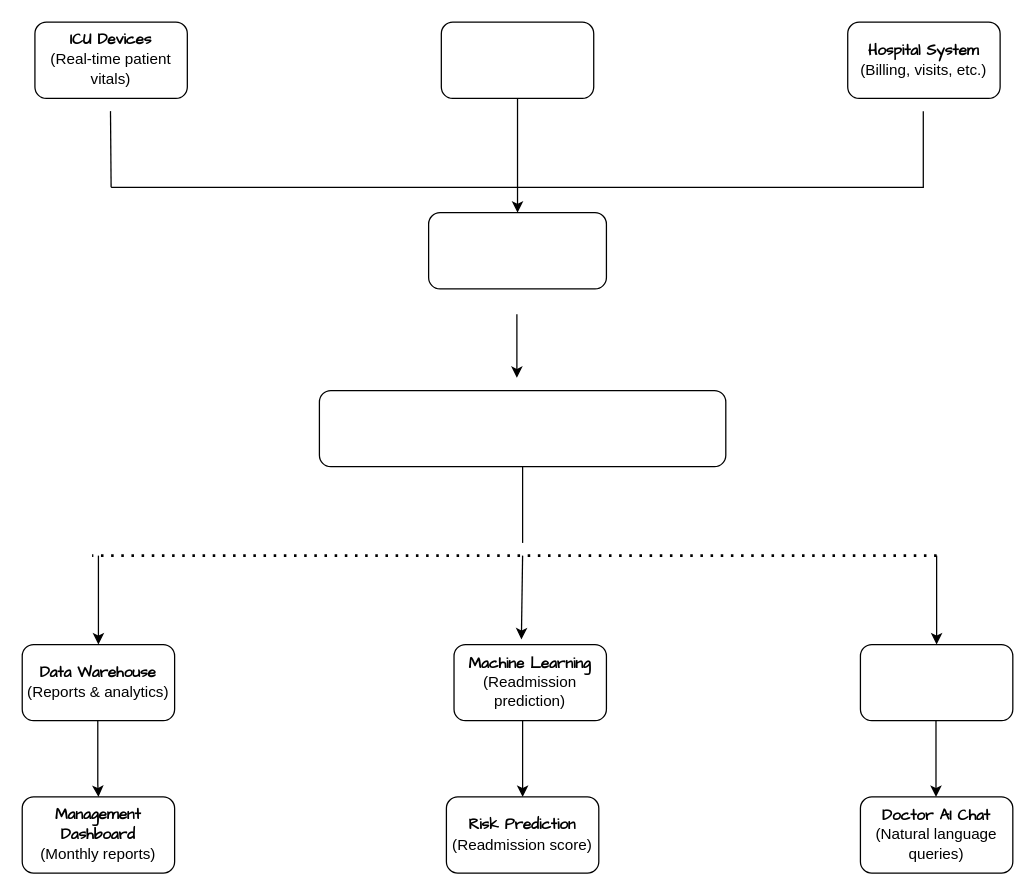
Image size: 1035x895. Some labels were removed from this diagram. Each missing label, with the centre of its shape:
"Data Ingestion Layer (Kafka / Streaming)" belongs at point (516, 250).
"Data Lake (Raw Storage)" belongs at point (522, 428).
"Patient Records (Historical data)" belongs at point (517, 59).
"Vector Database (AI search / embeddings)" belongs at point (936, 682).
